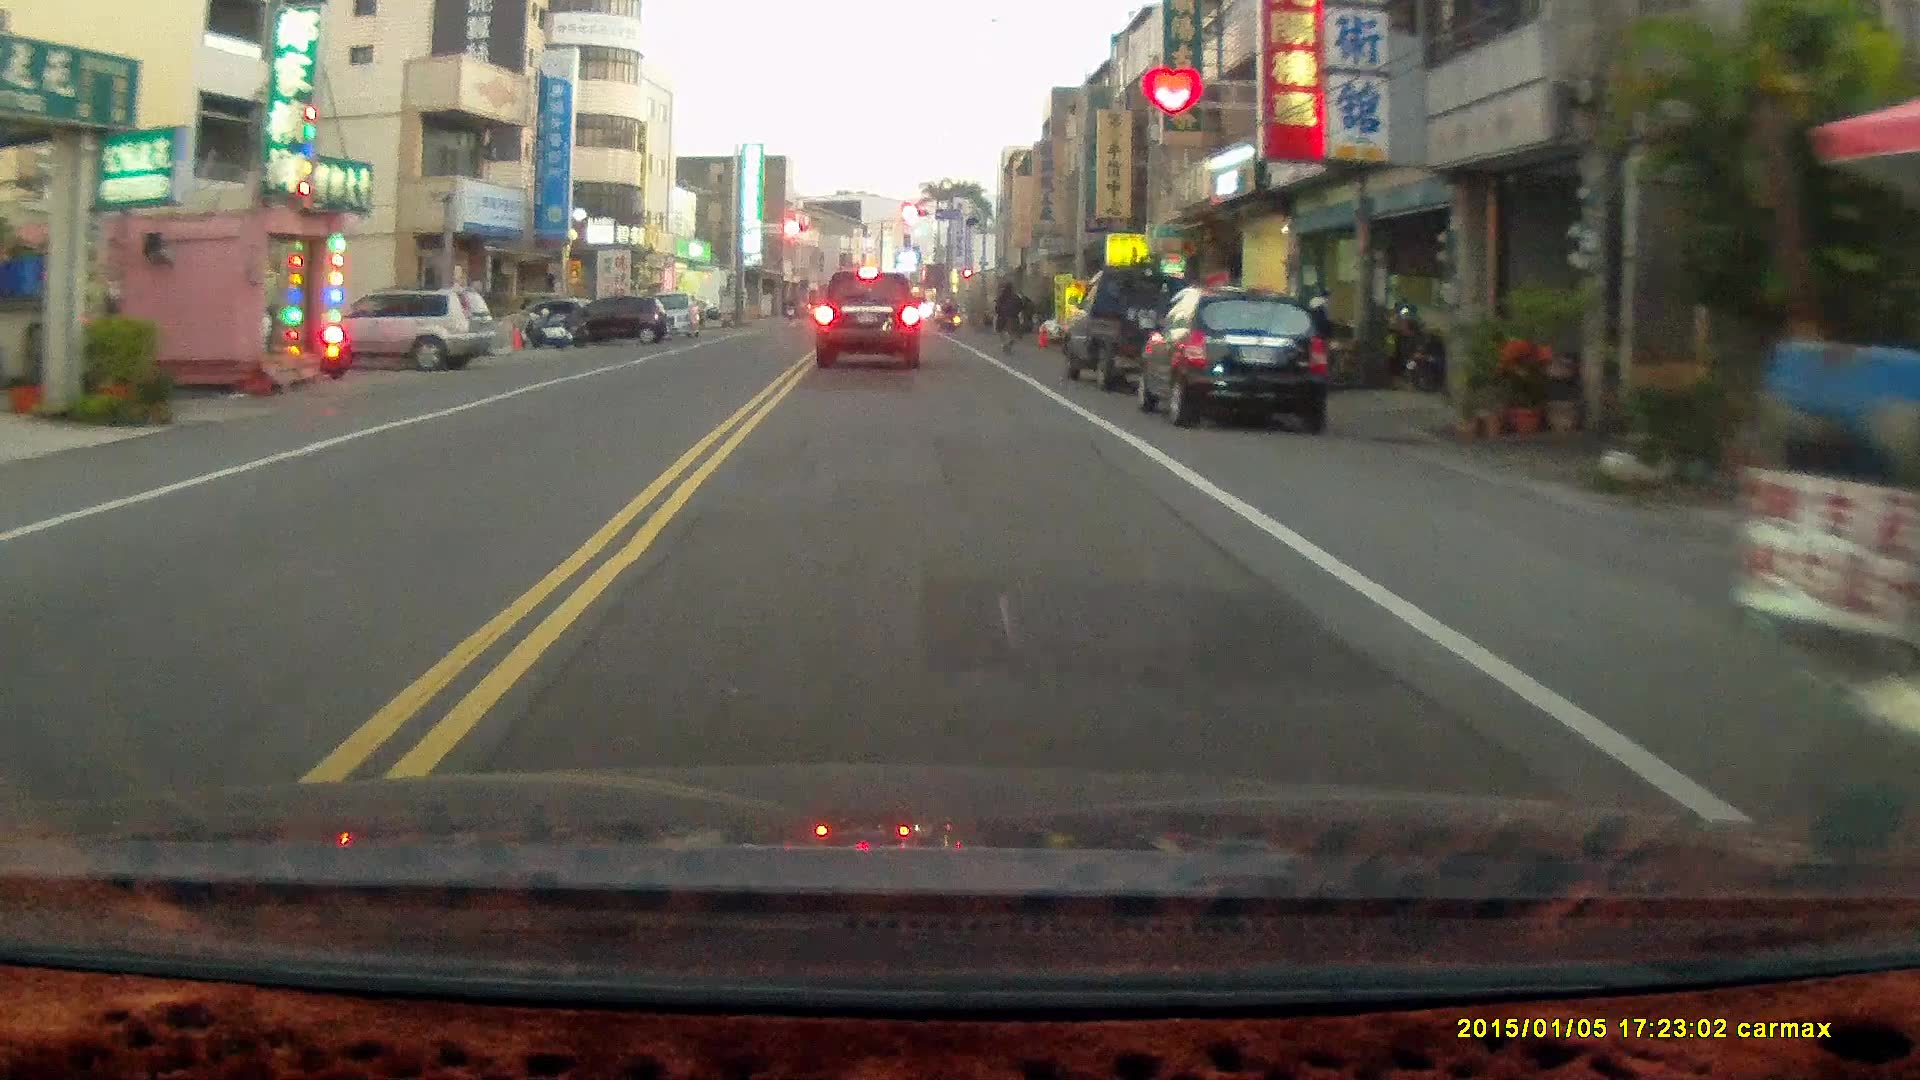rider: (992, 278, 1025, 359)
vehicle: (1152, 282, 1341, 426), (1061, 265, 1236, 393), (297, 290, 498, 370), (815, 271, 924, 375), (550, 292, 670, 346)
